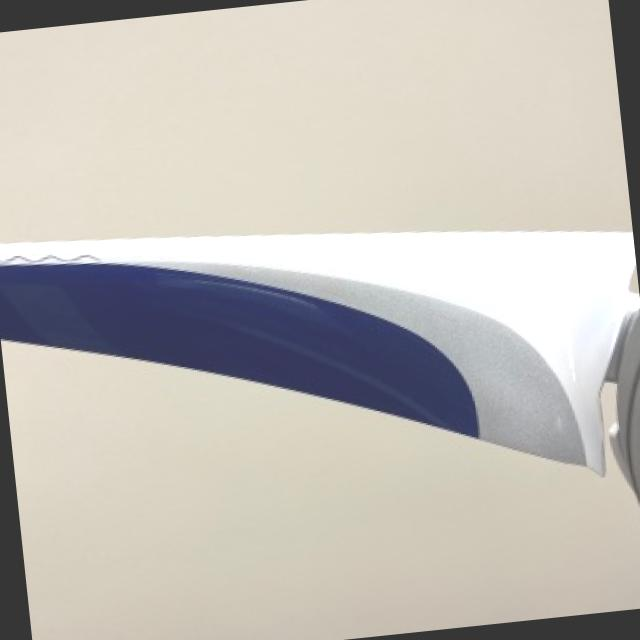healthy: (0, 229, 640, 520)
